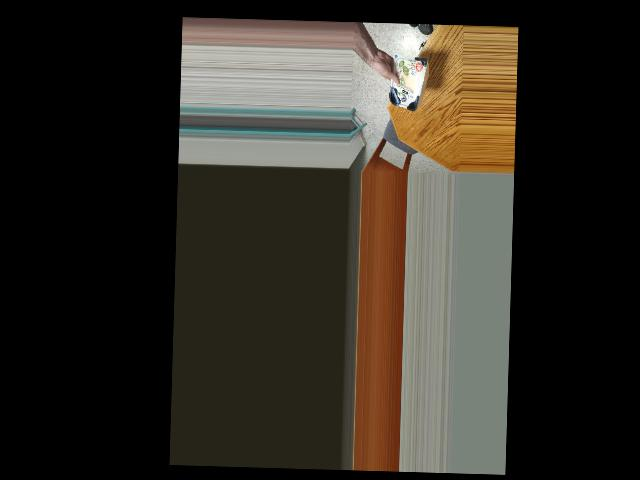cheese: (386, 51, 421, 112)
